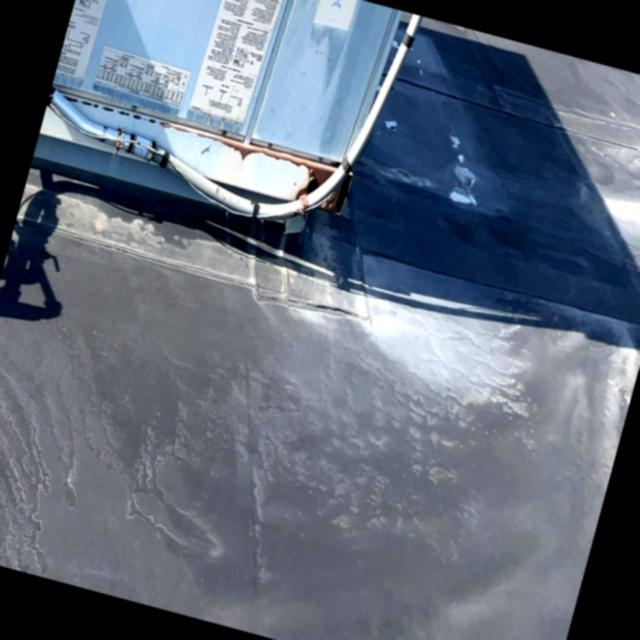RTU: (16, 0, 464, 314)
